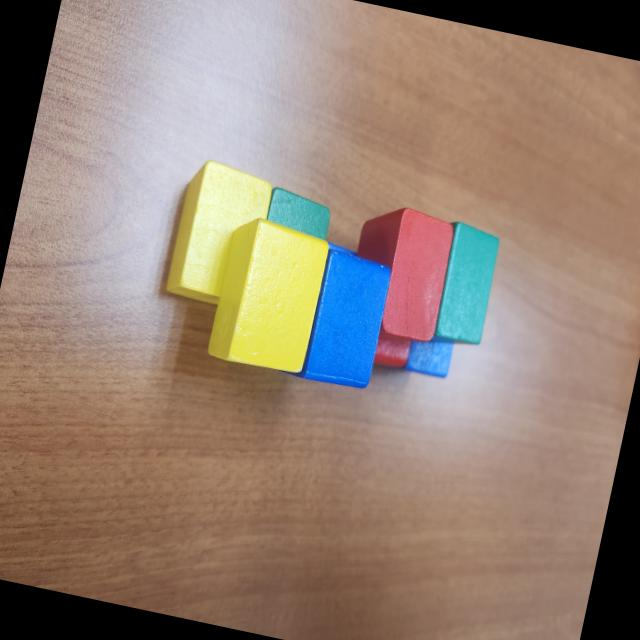blue: (276, 242, 398, 394), (401, 330, 456, 381)
green: (426, 218, 505, 350), (260, 186, 337, 240)
red: (338, 200, 458, 351), (370, 314, 416, 372)
yellow: (204, 214, 332, 375), (159, 157, 277, 310)
